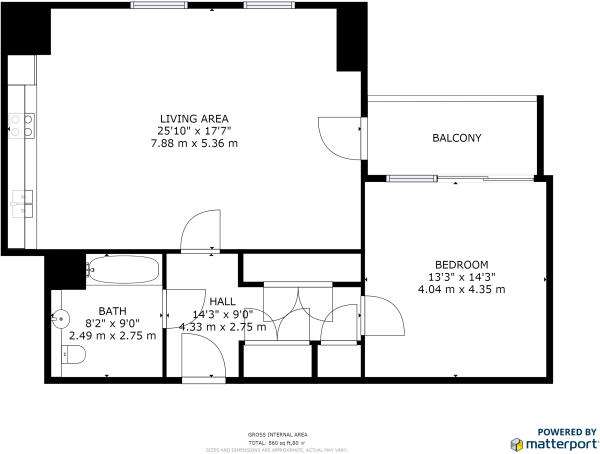GardenMeasurements: (362, 87, 558, 179)
GrossArea: (245, 419, 314, 451)
